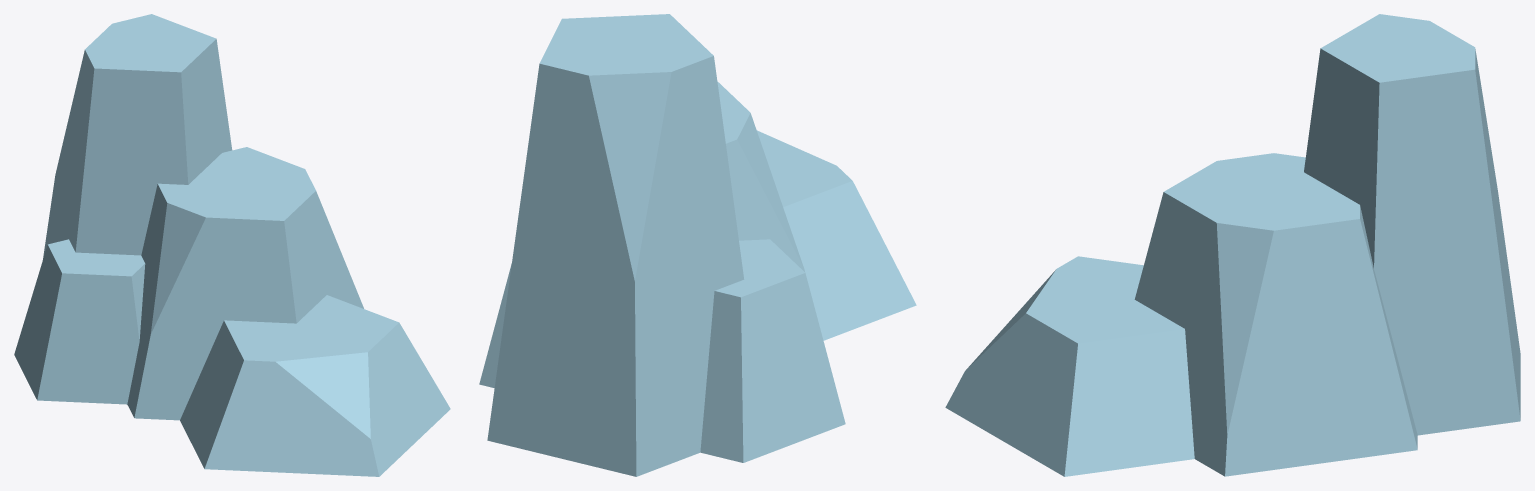
The model's file is rockWide.fbx.
The picture shows the model from 3 angles, left to right: view 1: azimuth 30°, elevation 25°; view 2: azimuth 150°, elevation 25°; view 3: azimuth 270°, elevation 25°; orthographic projection. The views are drawn at different scales.
Parts seen in each view (by area): view 1: rockWide; view 2: rockWide; view 3: rockWide.
Boxes of the visible parts, box(x1,y1,x2,y2) form: rockWide: box(14, 14, 450, 476); rockWide: box(479, 14, 916, 476); rockWide: box(945, 14, 1520, 476).
Bounding box in the file's own units: 10.94 × 10.2 × 15.67.
